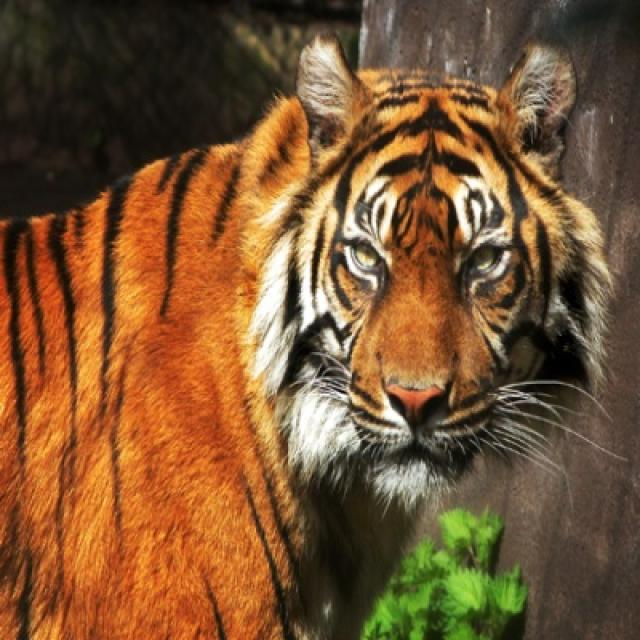Tiger: (0, 40, 614, 638)
